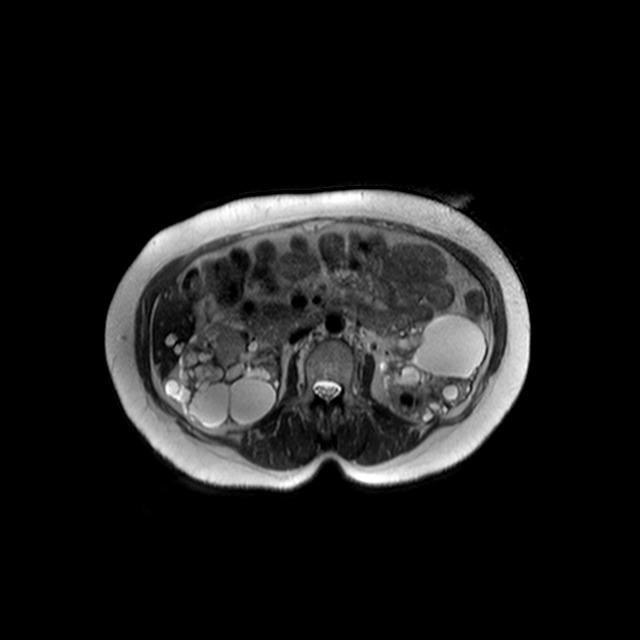sag: (166, 320, 279, 429)
sol: (373, 312, 490, 422)
